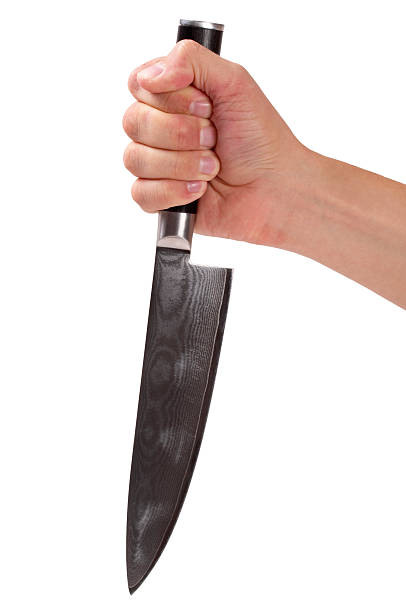knife: (122, 14, 238, 599)
